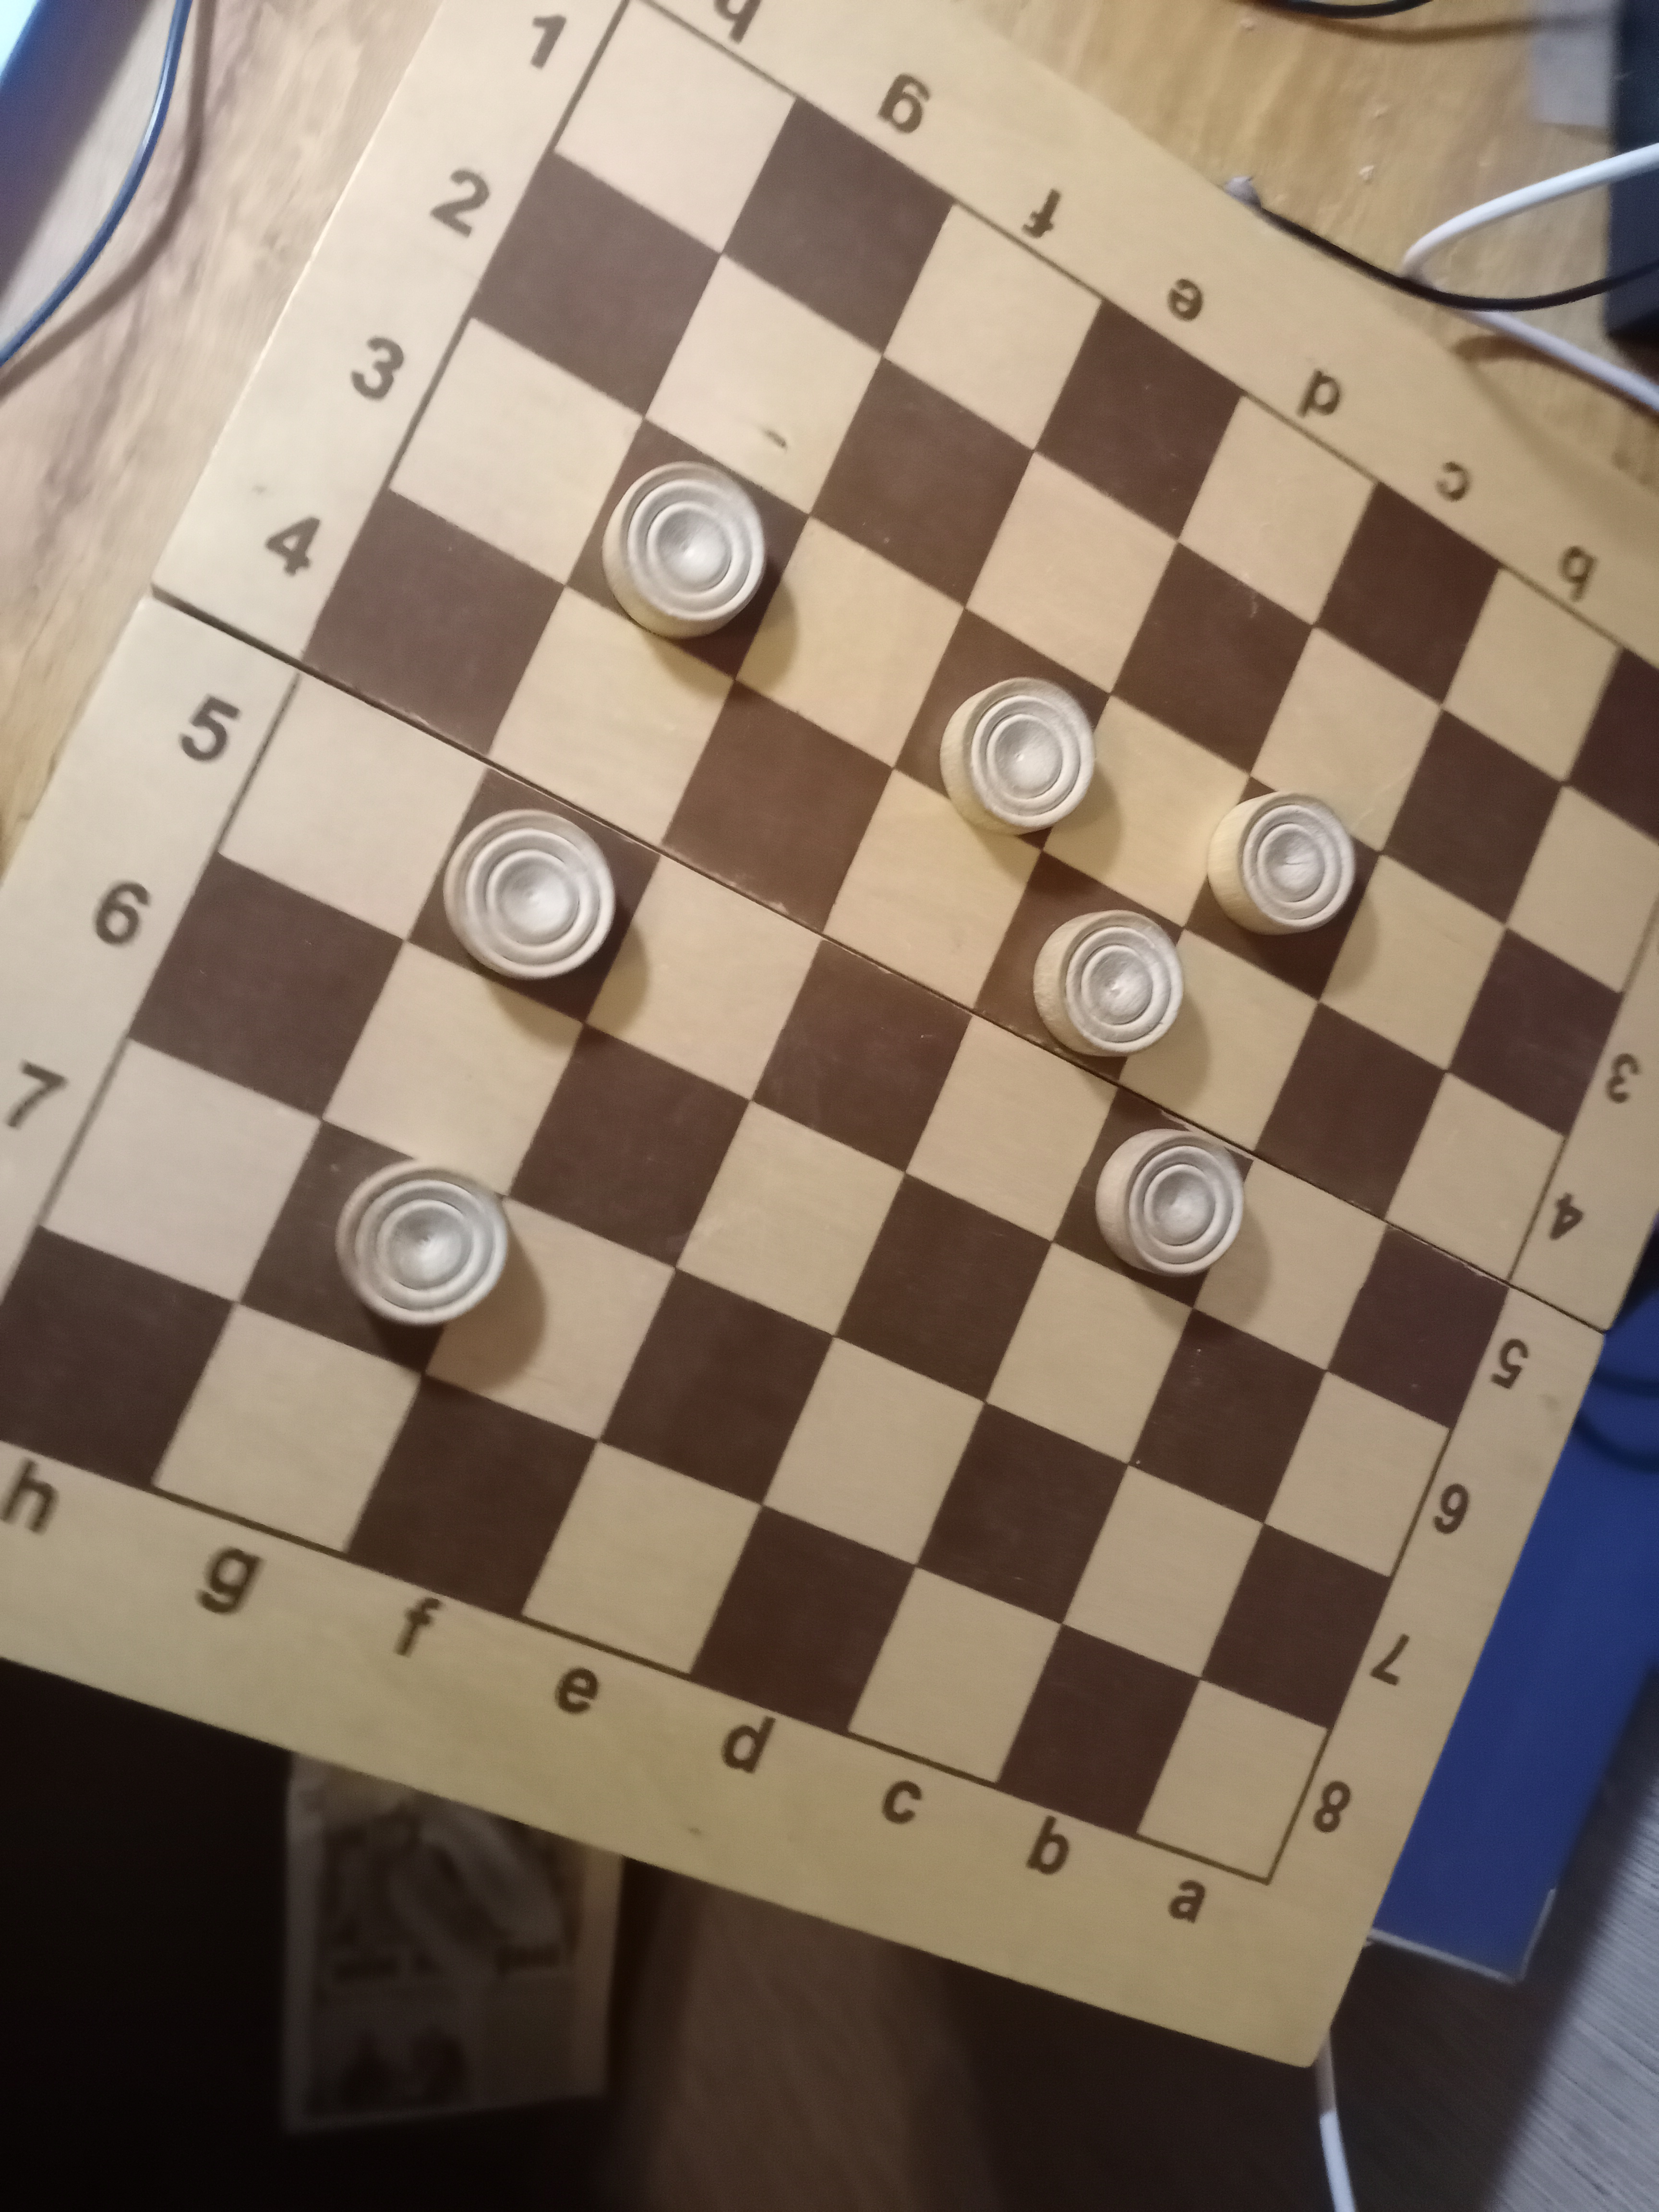White_Draught: (237, 1122, 511, 1374), (404, 768, 662, 1022), (563, 418, 810, 681), (894, 610, 1110, 852), (971, 852, 1187, 1080), (1054, 1089, 1255, 1308), (1187, 777, 1384, 1000)
